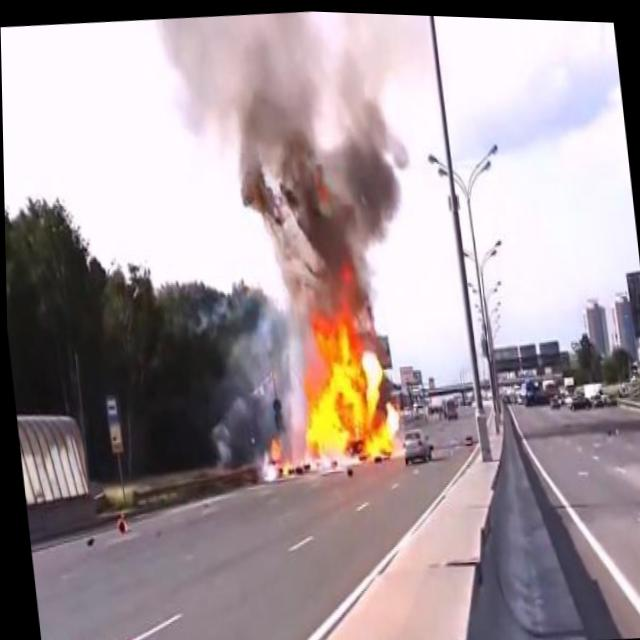fire: (249, 268, 408, 486)
